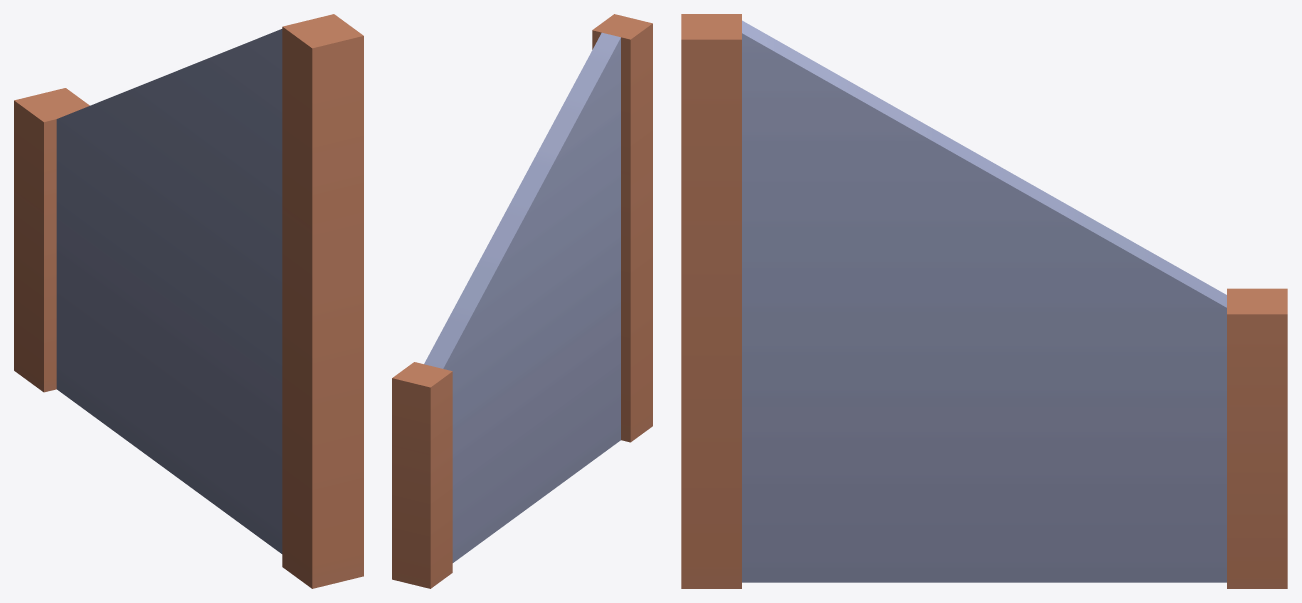
The model's file is wall-slope.glb.
3 renders of one model, left to right at view 1: azimuth 30°, elevation 25°; view 2: azimuth 150°, elevation 25°; view 3: azimuth 270°, elevation 25°, orthographic. The views are drawn at different scales.
Visible parts, largest first — view 1: wall-slope; view 2: wall-slope; view 3: wall-slope.
Part boxes in pixels (box(x1,y1,x2,y2)): wall-slope: box(14, 14, 363, 588); wall-slope: box(392, 14, 652, 588); wall-slope: box(681, 14, 1287, 588).
Bounding box in the file's own units: 0.1 × 1 × 1.
Materials: 1 (1 with a texture image).
